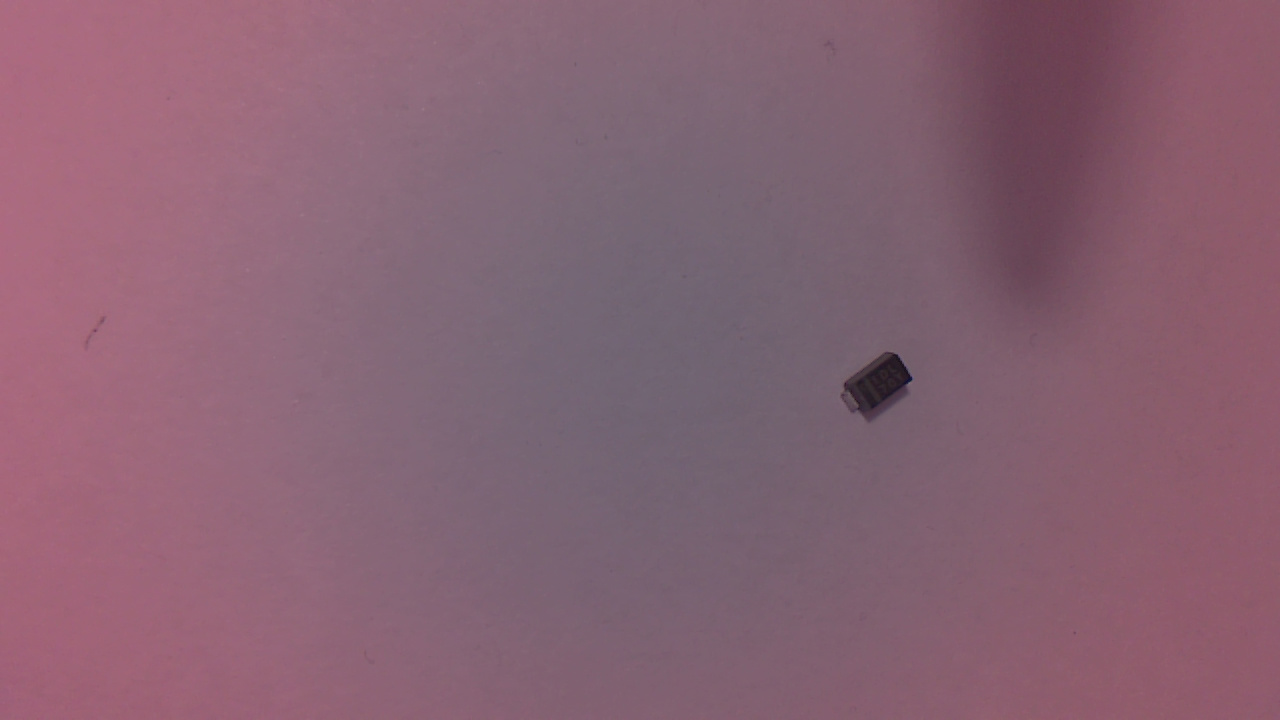Diode: (845, 348, 918, 430)
